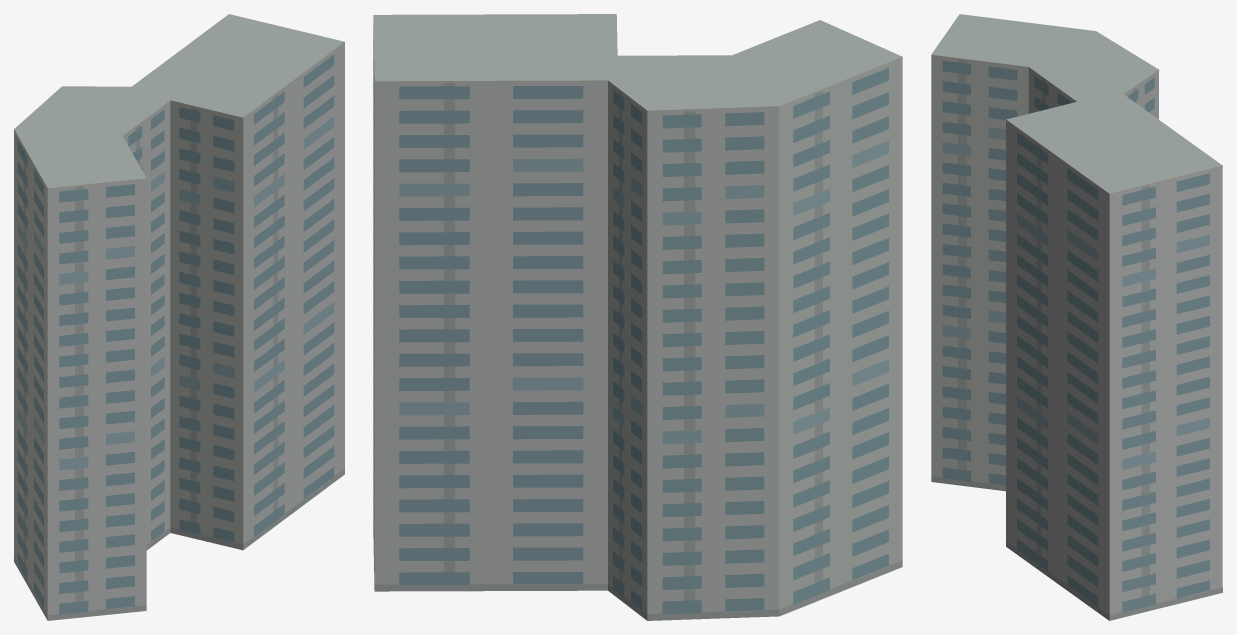
Rendered from residential-ed954ef3-e90e-4f01-a401-dc3bd8733b87.glb.
3 renders of one model, left to right at view 1: azimuth 30°, elevation 25°; view 2: azimuth 150°, elevation 25°; view 3: azimuth 270°, elevation 25°, orthographic. The views are drawn at different scales.
Visible parts, largest first — view 1: residential-ed954ef3-e90e-4f01-a401-dc3bd8733b87.tmp; view 2: residential-ed954ef3-e90e-4f01-a401-dc3bd8733b87.tmp; view 3: residential-ed954ef3-e90e-4f01-a401-dc3bd8733b87.tmp.
Part boxes in pixels (x1,y1,x2,y2): residential-ed954ef3-e90e-4f01-a401-dc3bd8733b87.tmp: (14, 14, 344, 620); residential-ed954ef3-e90e-4f01-a401-dc3bd8733b87.tmp: (373, 14, 902, 620); residential-ed954ef3-e90e-4f01-a401-dc3bd8733b87.tmp: (931, 14, 1222, 620).
Size of the model in its own units: 53.24 by 59 by 36.51.
